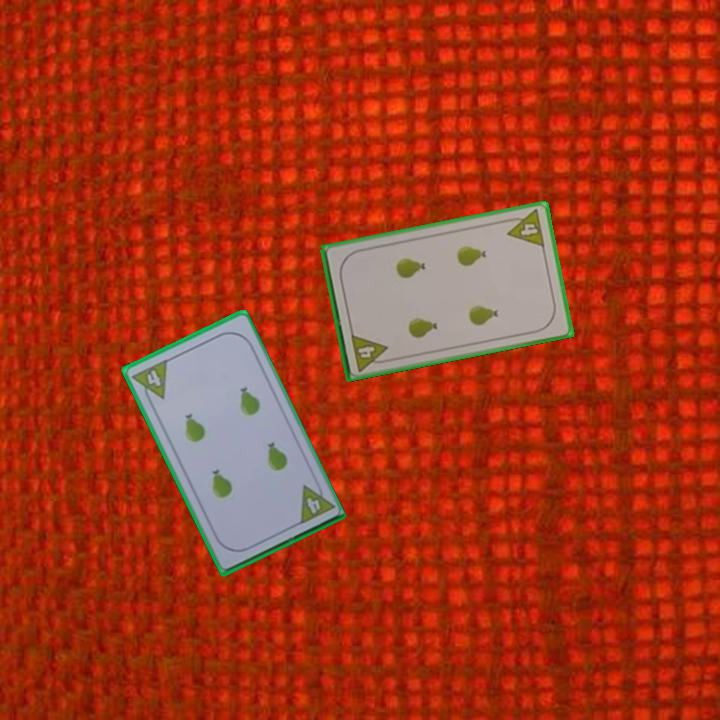4p: (128, 356, 170, 407), (501, 206, 548, 250), (295, 477, 336, 527), (347, 330, 392, 374)
